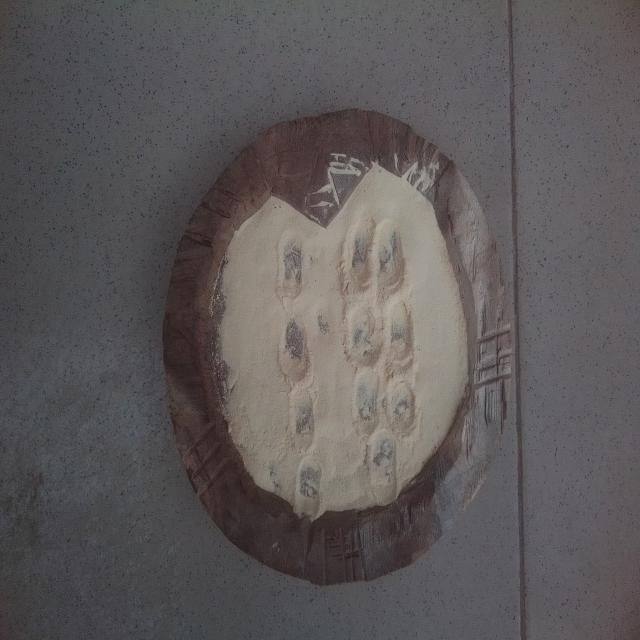double: (339, 296, 418, 371), (338, 215, 408, 290), (346, 370, 424, 435)
single: (368, 423, 400, 507), (276, 312, 313, 382), (285, 384, 316, 454), (277, 227, 306, 301), (292, 454, 326, 517)
